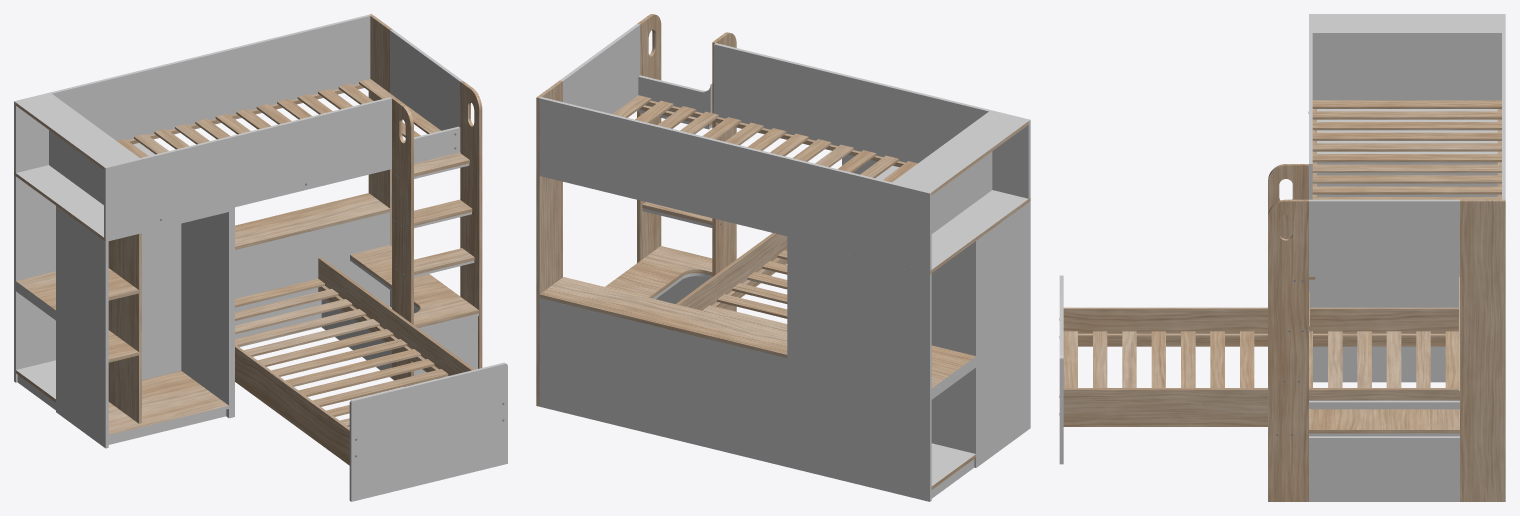
Rendered from SM_LBunkBed_Frame.fbx.
3 renders of one model, left to right at view 1: azimuth 30°, elevation 25°; view 2: azimuth 150°, elevation 25°; view 3: azimuth 270°, elevation 25°, orthographic. The views are drawn at different scales.
Parts seen in each view (by area): view 1: SM_LBunkBed_Frame; view 2: SM_LBunkBed_Frame; view 3: SM_LBunkBed_Frame.
Part boxes in pixels (<box>): SM_LBunkBed_Frame: <box>14,14,507,501</box>; SM_LBunkBed_Frame: <box>536,14,1030,501</box>; SM_LBunkBed_Frame: <box>1059,14,1505,501</box>.
Size of what is drawn, in the model's own units: 214 by 160 by 216.
